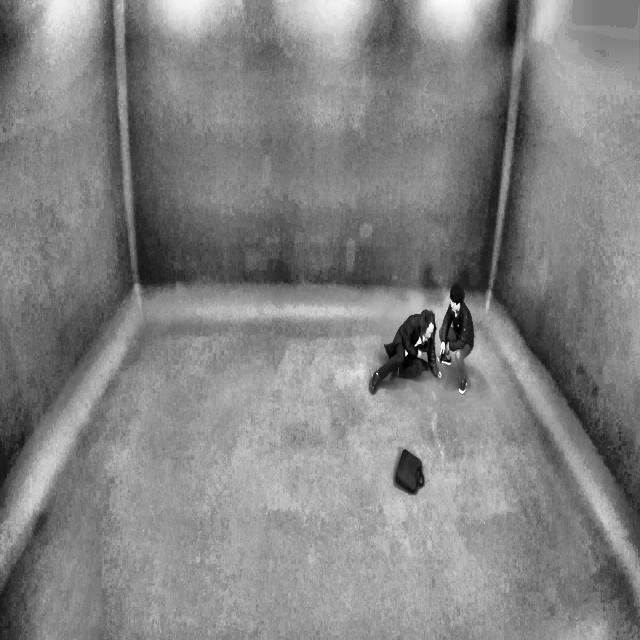assult: (359, 268, 491, 421)
